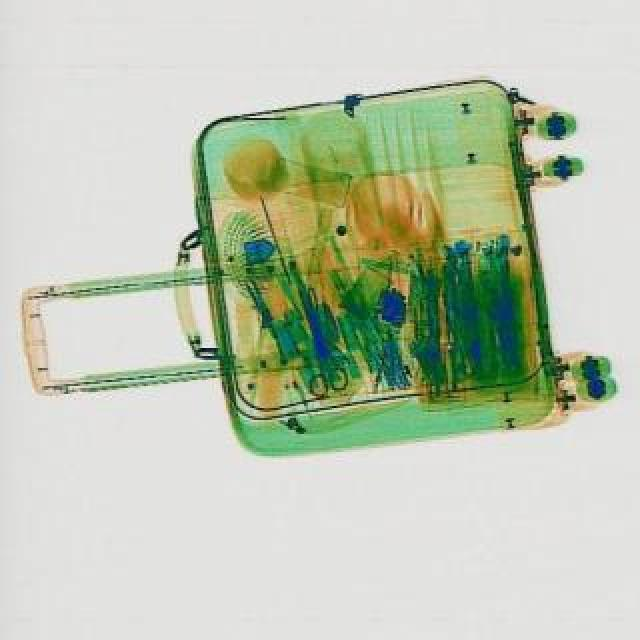pliers: (284, 286, 352, 398)
